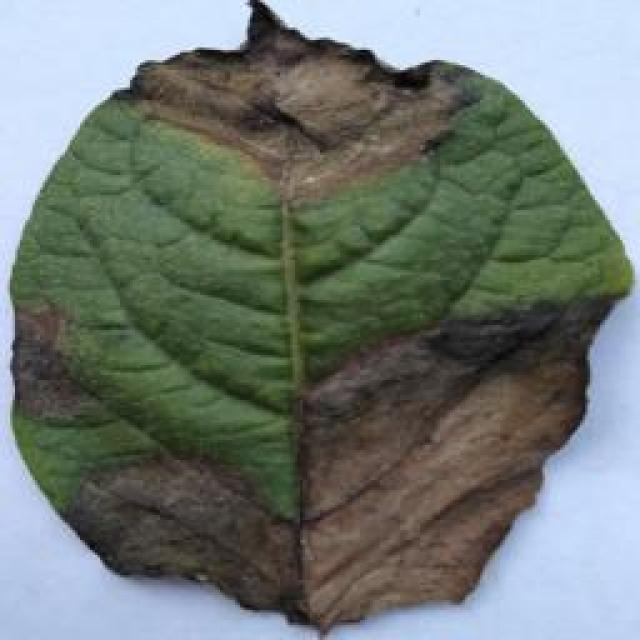Potato_Late_Blight: (0, 5, 625, 633)
